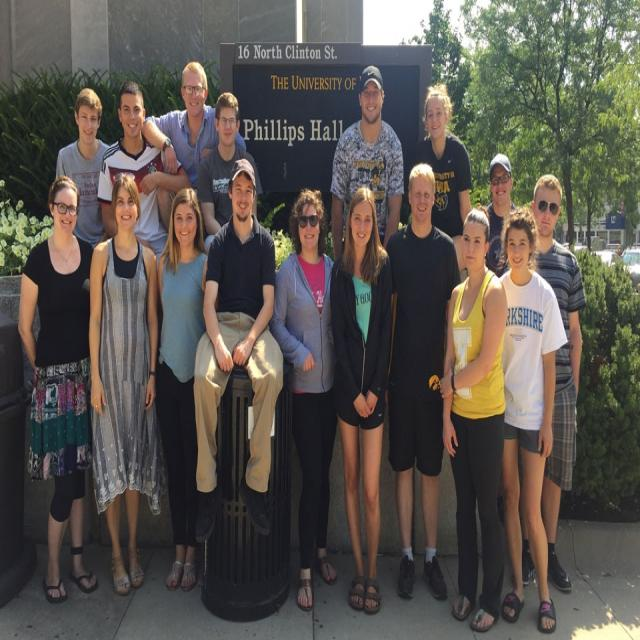body: (377, 158, 464, 604), (190, 155, 286, 545), (17, 173, 98, 605), (86, 169, 161, 600), (497, 202, 571, 638), (436, 203, 509, 635), (270, 186, 339, 614), (328, 182, 394, 618), (520, 172, 586, 597), (152, 185, 218, 592), (139, 59, 248, 240), (95, 77, 193, 275), (329, 64, 406, 263), (197, 89, 263, 253), (412, 80, 474, 238), (55, 85, 111, 252), (482, 150, 522, 279)
